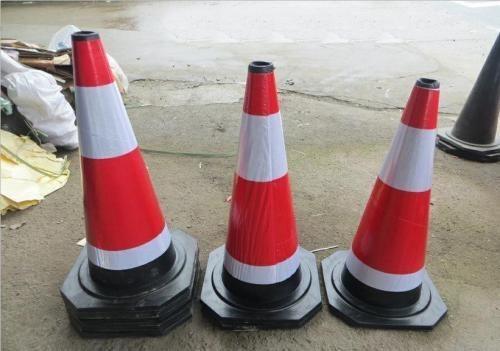cone_barrel: (56, 29, 184, 306), (329, 73, 449, 316), (205, 62, 315, 312), (444, 32, 498, 154)
